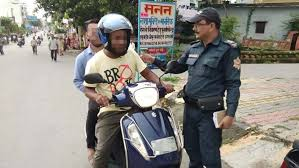helmet: (97, 9, 133, 60)
